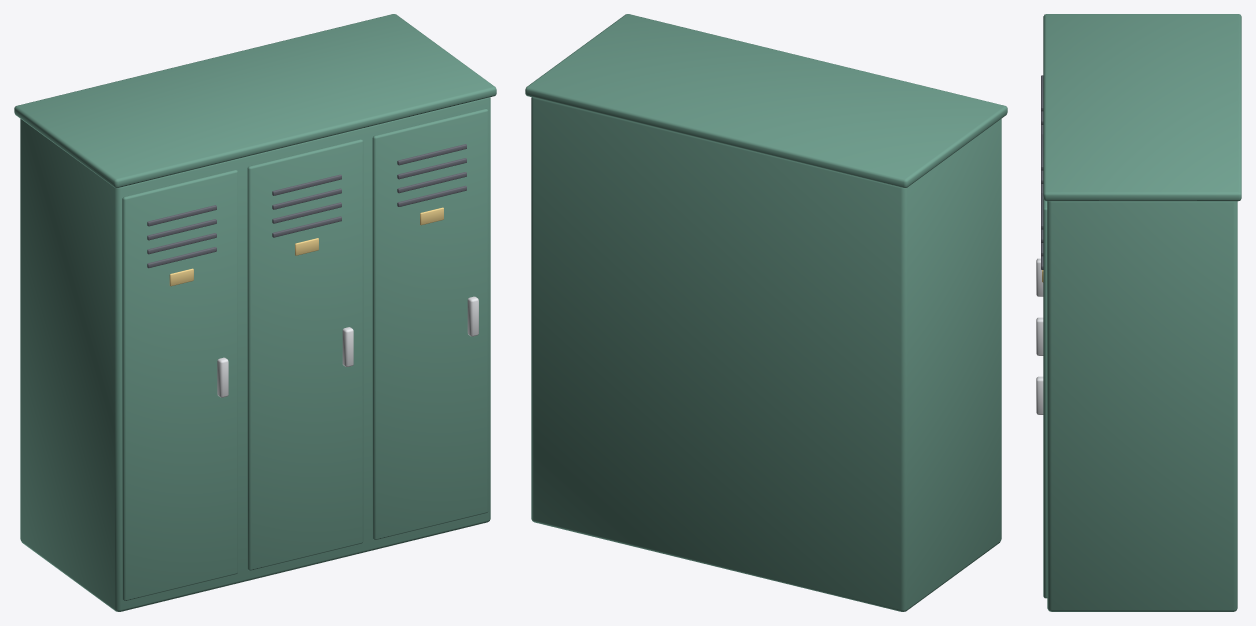
File: locker.glb
3 renders of one model, left to right at view 1: azimuth 30°, elevation 25°; view 2: azimuth 150°, elevation 25°; view 3: azimuth 270°, elevation 25°, orthographic. The views are drawn at different scales.
Parts seen in each view (by area): view 1: Cube, Cube.008, Cube.015, Cube.001, Cube.022; view 2: Cube, Cube.022; view 3: Cube, Cube.022, Cube.015, Cube.013, Cube.020.
Part boxes in pixels (x1,y1,x2,y2): Cube: (20, 97, 490, 611); Cube.008: (247, 139, 363, 570); Cube.015: (372, 108, 488, 539); Cube.001: (122, 170, 237, 600); Cube.022: (14, 14, 496, 187); Cube: (531, 97, 1001, 611); Cube.022: (525, 14, 1007, 187); Cube: (1047, 201, 1237, 611); Cube.022: (1043, 14, 1241, 201); Cube.015: (1043, 199, 1047, 598); Cube.013: (1036, 317, 1043, 355); Cube.020: (1036, 376, 1043, 414).
Size of the model in its own units: 112 by 122 by 53.85.
